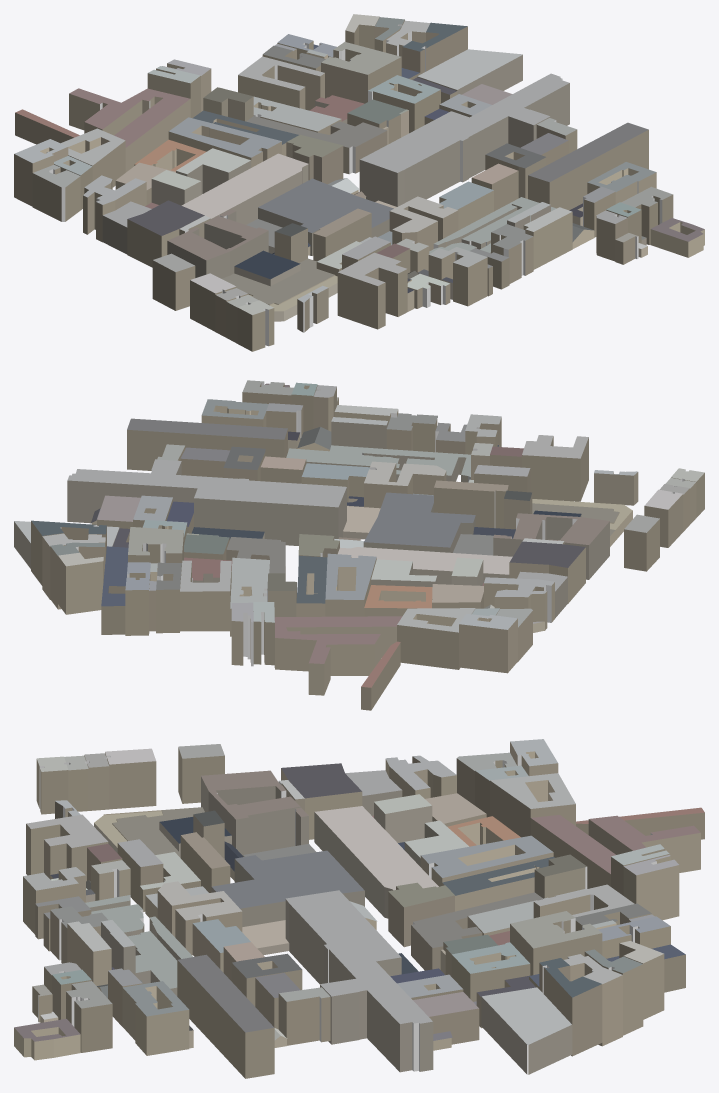
3 renders of one model, top to bottom at view 1: azimuth 30°, elevation 25°; view 2: azimuth 150°, elevation 25°; view 3: azimuth 270°, elevation 25°, orthographic. The views are drawn at different scales.
Parts seen in each view (by area): view 1: tuile; view 2: tuile; view 3: tuile.
Part boxes in pixels (x1,y1,x2,y2): tuile: (14,14,704,351); tuile: (14,380,704,710); tuile: (14,739,704,1078).
Size of the model in its own units: 280 by 29.3 by 284.
